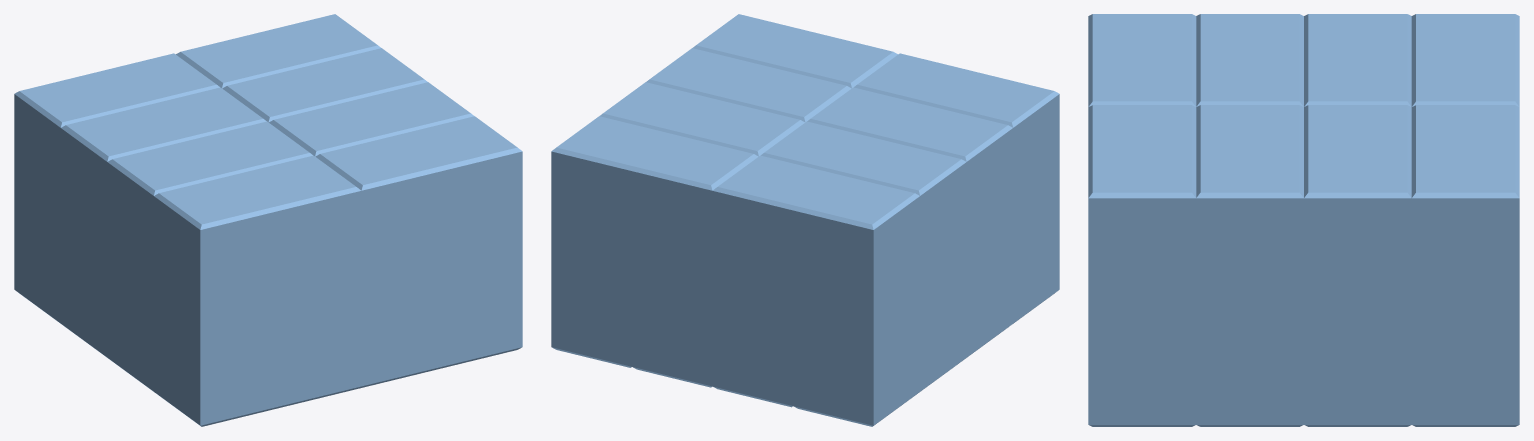
Rendered from Floor001_Ceiling001.fbx.
3 views of the same model, side by side, from view 1: azimuth 30°, elevation 25°; view 2: azimuth 150°, elevation 25°; view 3: azimuth 270°, elevation 25° (orthographic). The views are drawn at different scales.
Visible parts, largest first — view 1: Cube; view 2: Cube; view 3: Cube.
Boxes of the visible parts, left/top/right/bottom form: Cube: left=14, top=14, right=522, bottom=426; Cube: left=551, top=14, right=1059, bottom=426; Cube: left=1088, top=14, right=1519, bottom=426.
Size of the model in its own units: 100 by 60 by 100.
